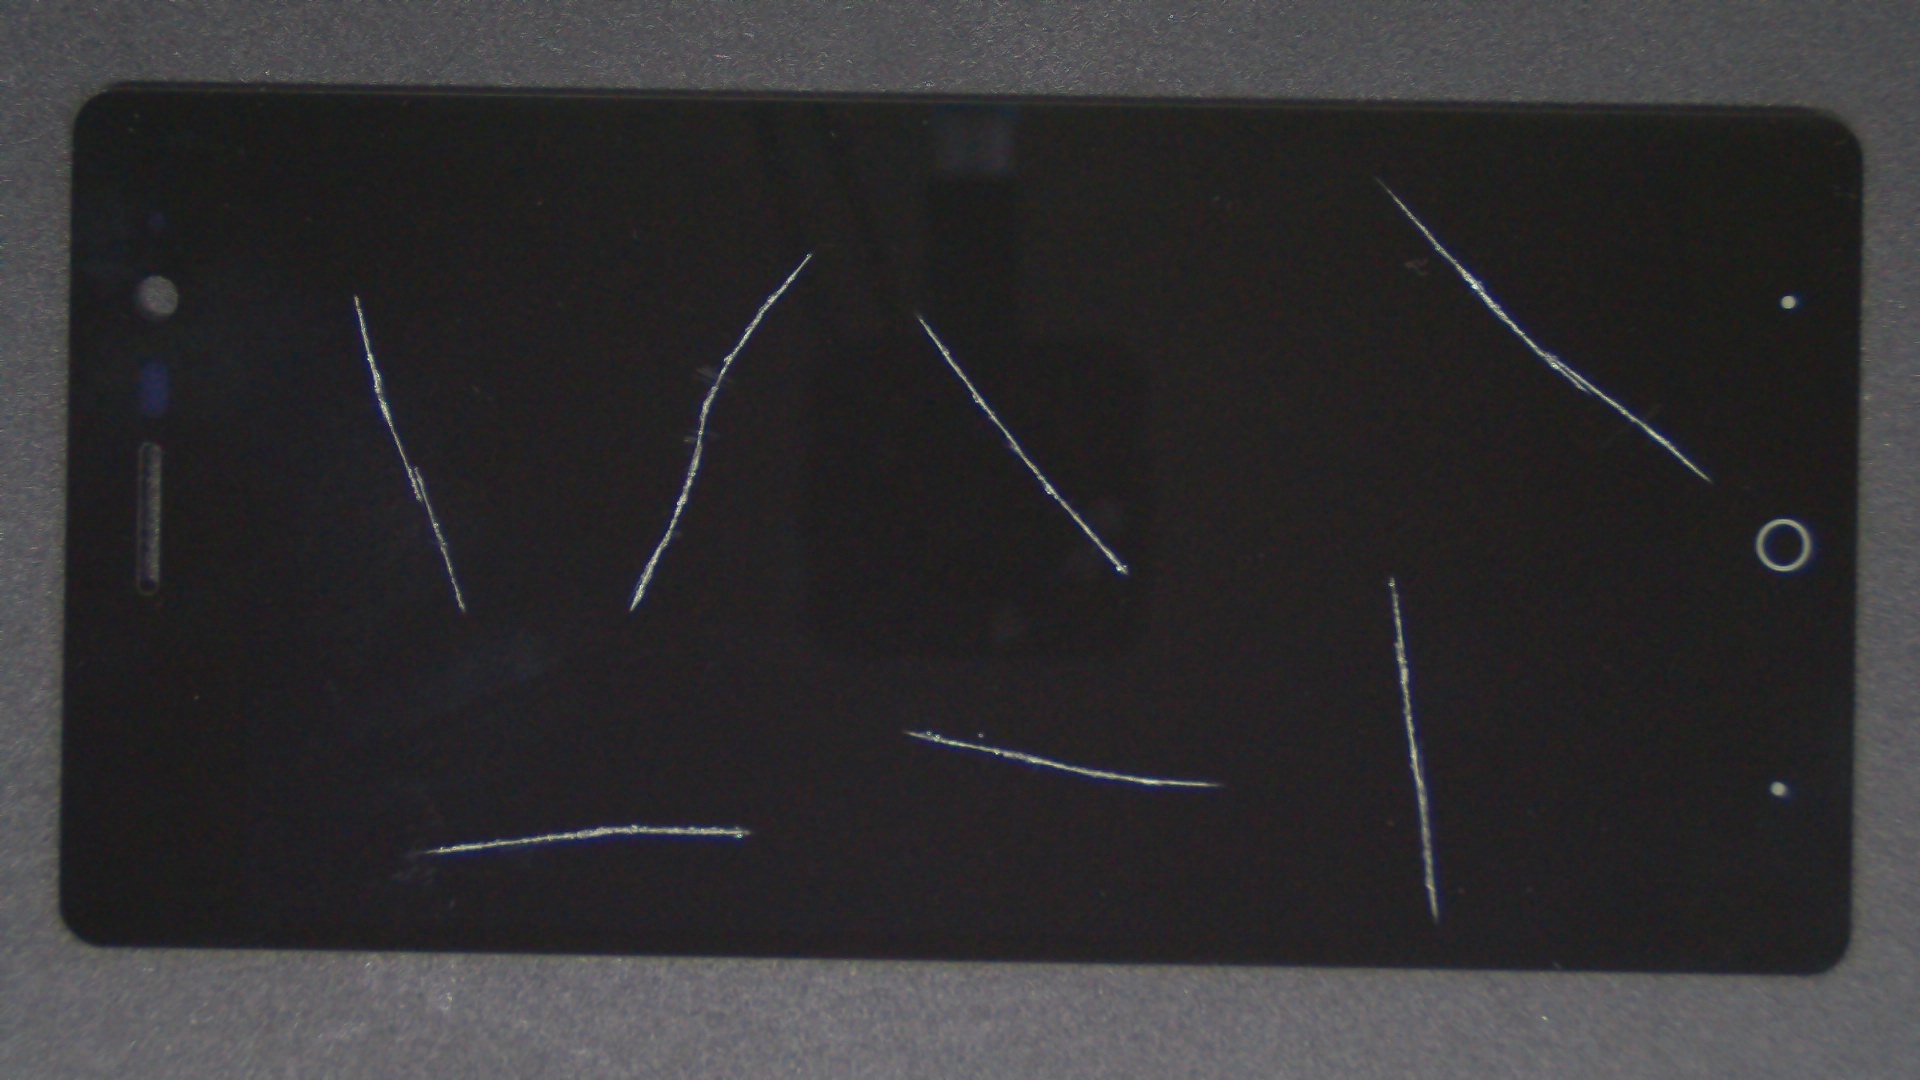oil: (694, 285, 1920, 865), (454, 364, 1357, 1080), (318, 410, 952, 1080), (458, 154, 1374, 473), (692, 91, 1920, 276), (404, 125, 1209, 378), (178, 146, 534, 440)
